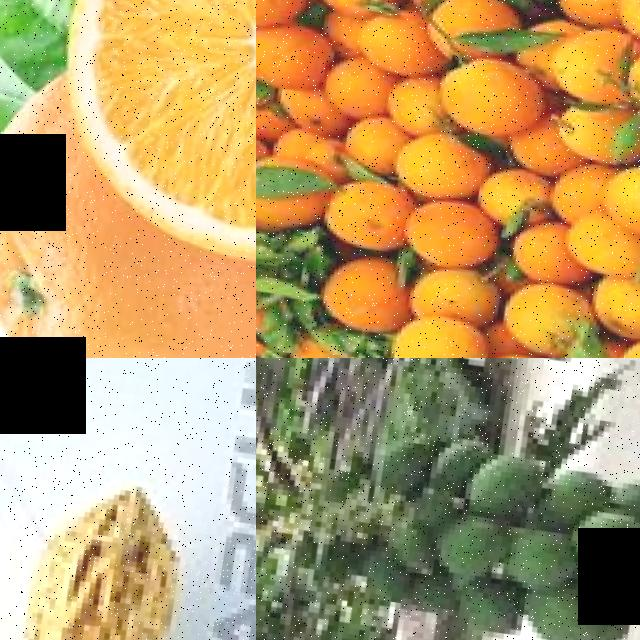orange: (32, 0, 256, 292), (0, 206, 256, 358), (430, 49, 548, 146), (391, 194, 499, 277), (386, 128, 491, 206), (317, 253, 411, 337), (544, 22, 633, 109), (316, 176, 410, 255), (495, 280, 588, 356), (354, 2, 438, 81), (256, 21, 335, 97), (558, 217, 640, 288), (477, 162, 554, 232), (334, 112, 409, 179), (384, 312, 486, 358), (505, 220, 576, 284), (591, 156, 640, 246), (306, 0, 387, 23), (256, 0, 306, 32)
peanuts: (0, 469, 207, 640)
